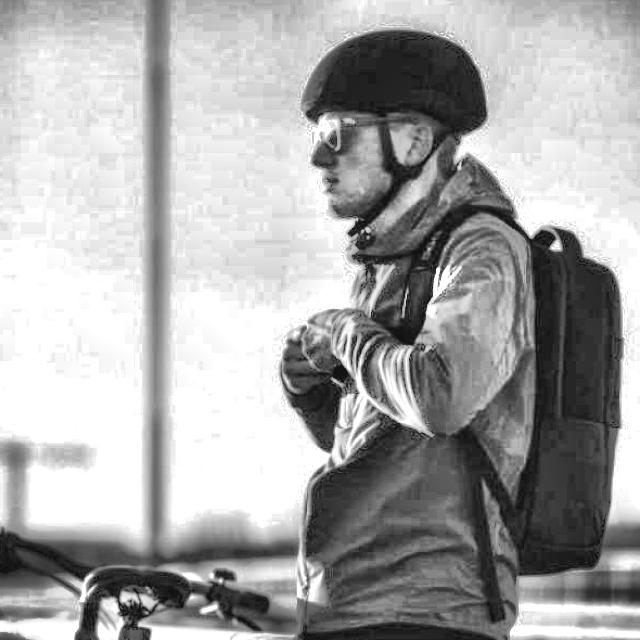Helmet: (297, 23, 495, 242)
